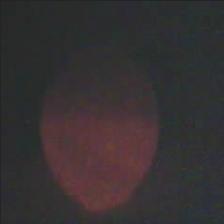fertile: (36, 36, 163, 212)
